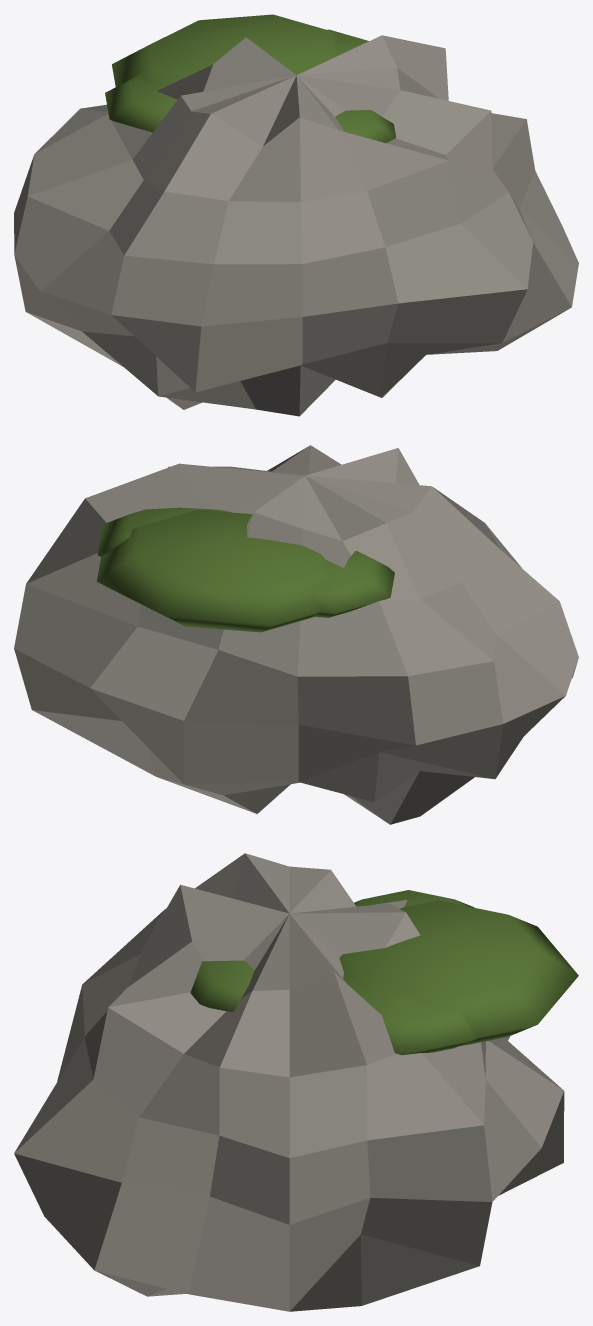
Rendered from feldstein_1.glb.
The picture shows the model from 3 angles, top to bottom: view 1: azimuth 30°, elevation 25°; view 2: azimuth 150°, elevation 25°; view 3: azimuth 270°, elevation 25°; orthographic projection. The views are drawn at different scales.
Parts seen in each view (by area): view 1: Sphere; view 2: Sphere; view 3: Sphere.
Part boxes in pixels (x1=…): Sphere: x1=14, y1=14, x2=578, y2=416; Sphere: x1=14, y1=445, x2=578, y2=824; Sphere: x1=14, y1=853, x2=578, y2=1311.
Bounding box in the file's own units: 0.6851 × 0.3898 × 0.5572.
